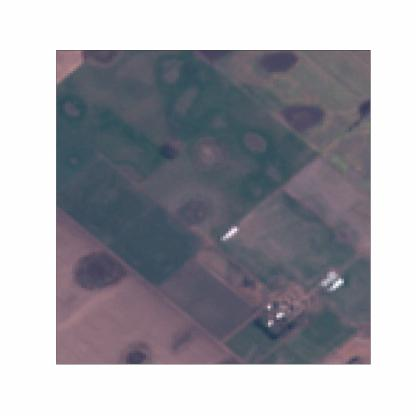silobolsa: (218, 225, 237, 241), (329, 278, 346, 292), (321, 271, 336, 285)
